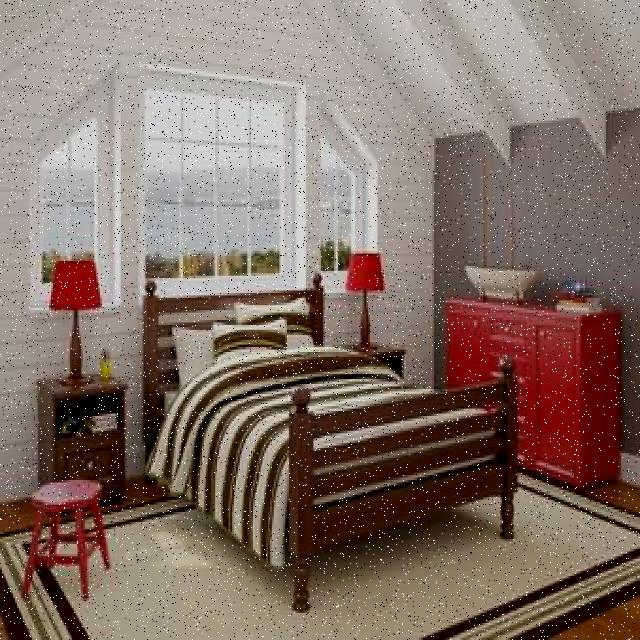bed: (156, 284, 494, 558)
